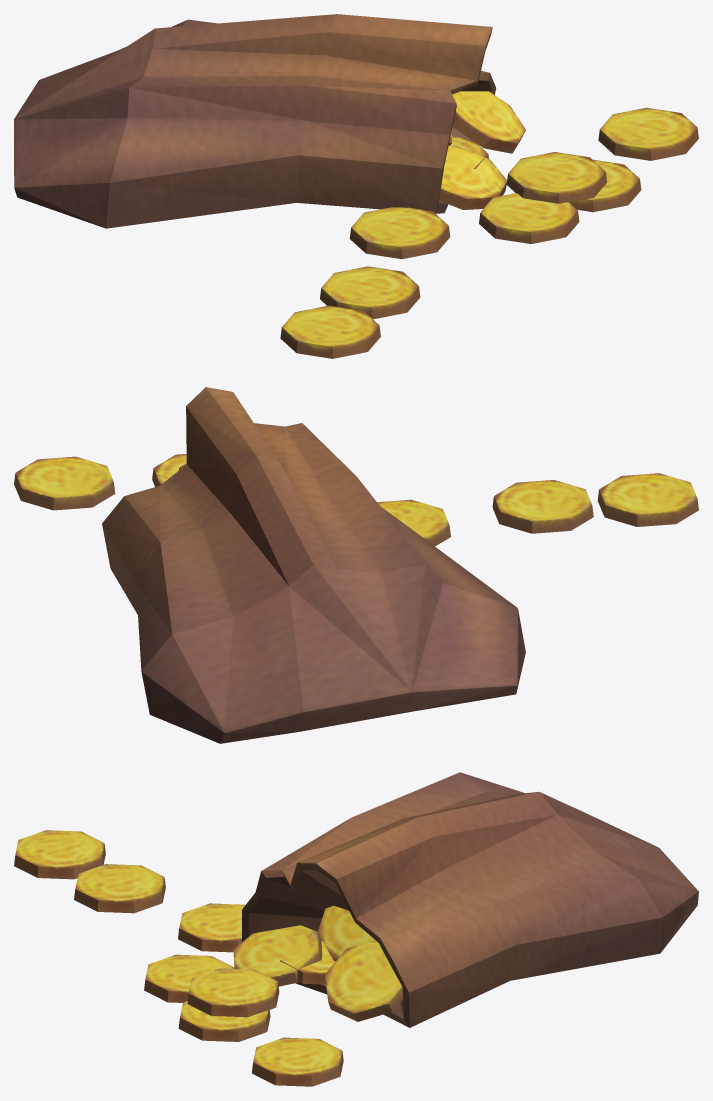
File: daoju_22.fbx
3 renders of one model, top to bottom at view 1: azimuth 30°, elevation 25°; view 2: azimuth 150°, elevation 25°; view 3: azimuth 270°, elevation 25°, orthographic. The views are drawn at different scales.
Visible parts, largest first — view 1: daoju_22; view 2: daoju_22; view 3: daoju_22.
Boxes of the visible parts, x1,y1,x2,y2 form: daoju_22: (14, 14, 698, 358); daoju_22: (14, 387, 698, 743); daoju_22: (14, 772, 698, 1086).
Size of the model in its own units: 184 by 47.22 by 197.
